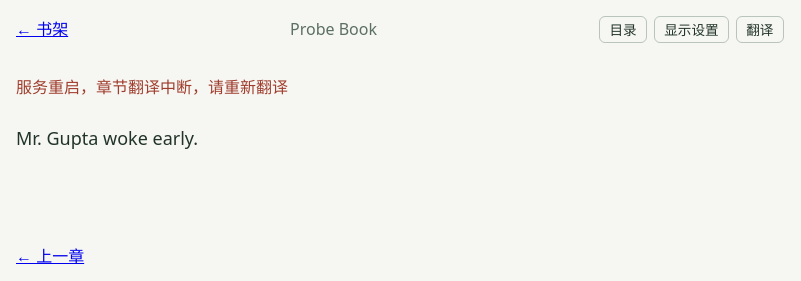
Test: ReadingPage's translate button through the component boundary › displays a failed chapter's reason and retries to fresh translation lines
Expected: the message reads "服务重启，章节翻译中断，请重新翻译", top-left (16, 76), bottom-right (288, 98)
Click the button "翻译".
click(760, 29)  # box top-left (736, 16), bottom-right (784, 43)
Wait 1500 ms
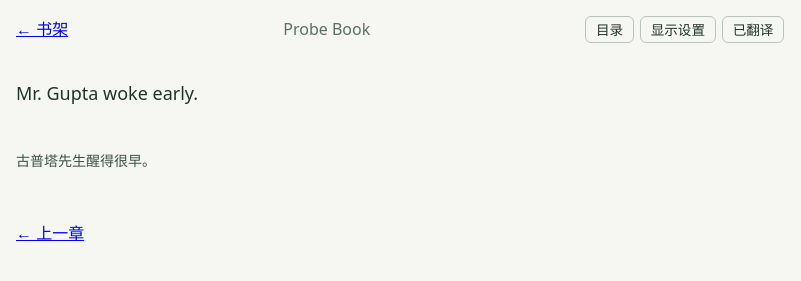
Expected: the text "服务重启，章节翻译中断，请重新翻译" is gone
Expected: the text "古普塔先生醒得很早。" is shown, top-left (16, 151), bottom-right (156, 170)
Expected: the button "已翻译" is disabled, top-left (722, 16), bottom-right (784, 43)
